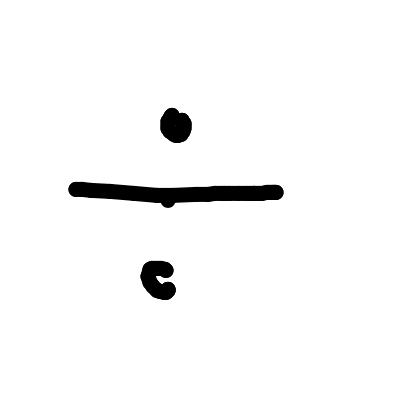div: (69, 105, 286, 301)
